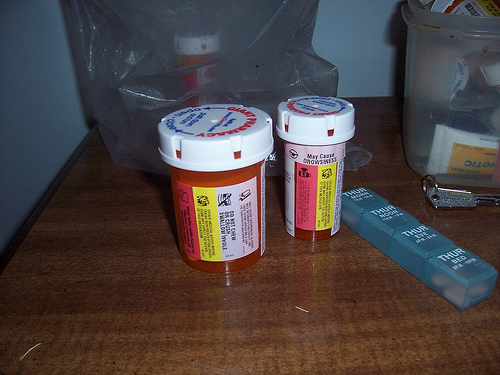pill bottle: (153, 100, 276, 277), (274, 94, 357, 242)
